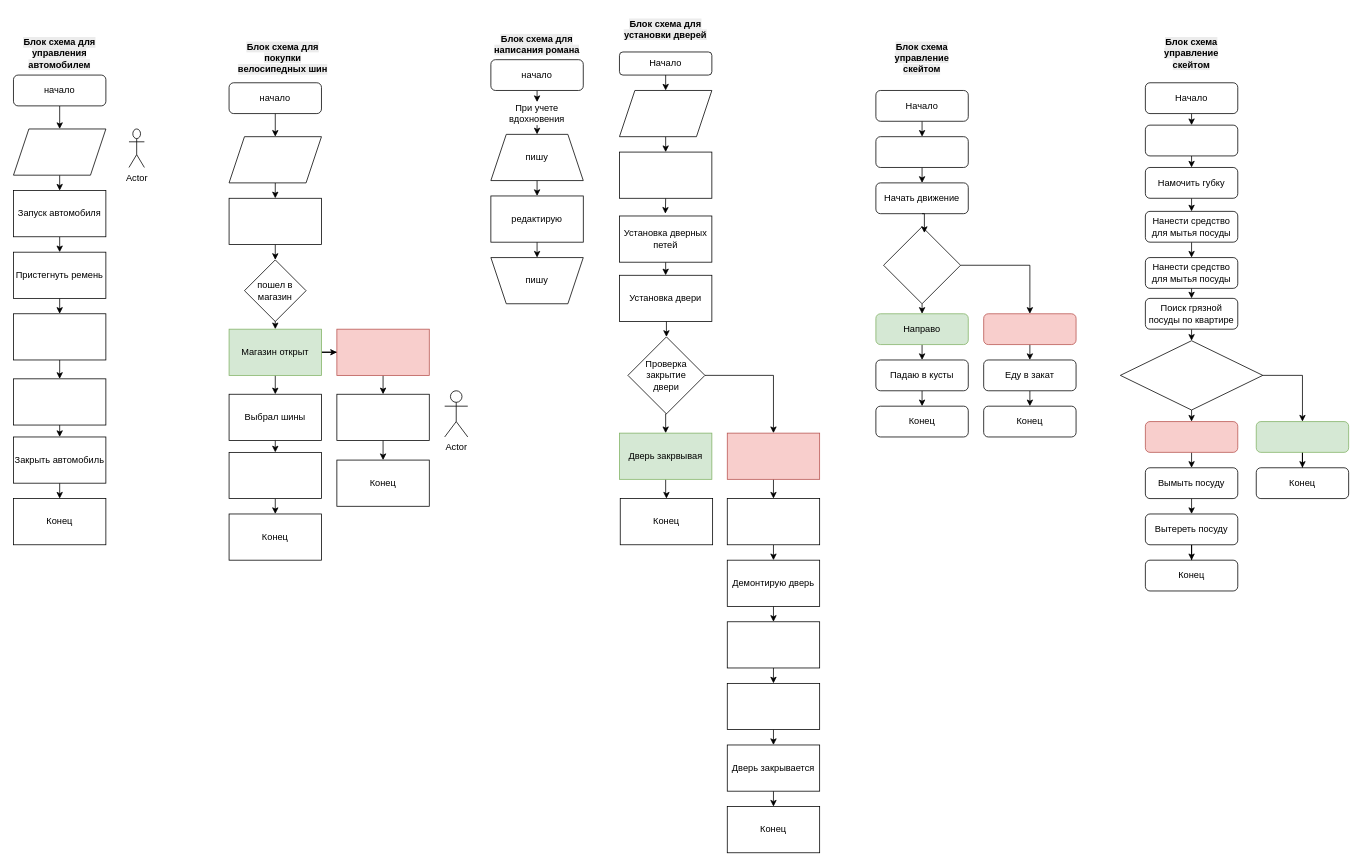
This 1362x866 diagram has some shape labels left out. Each missing label, with the centre of its shape:
Верная установка петель: (773,644)
Взять губку: (1191,140)
Встать на скейт: (921,151)
Да: (1191,436)
Дверь не закрывается: (773,455)
Есть еще грязная посуда?: (1191,375)
Закончить движение в точке Б: (59,401)
Заплатил: (274,475)
Измерить проем: (665,113)
Магазин закрыт: (382,351)
Монтаж двери: (773,706)
Налево: (1029,329)
Начать движение из точки А: (59,336)
Нашел магазин в картах: (274,221)
Нет: (1302,436)
Обнаружил дырку: (274,159)
Открыли дверь: (59,151)
Петли установлены не верно: (773,521)
Плачу у порога: (382,416)
Поворот: (922,265)
Установка короба двери: (665,174)
